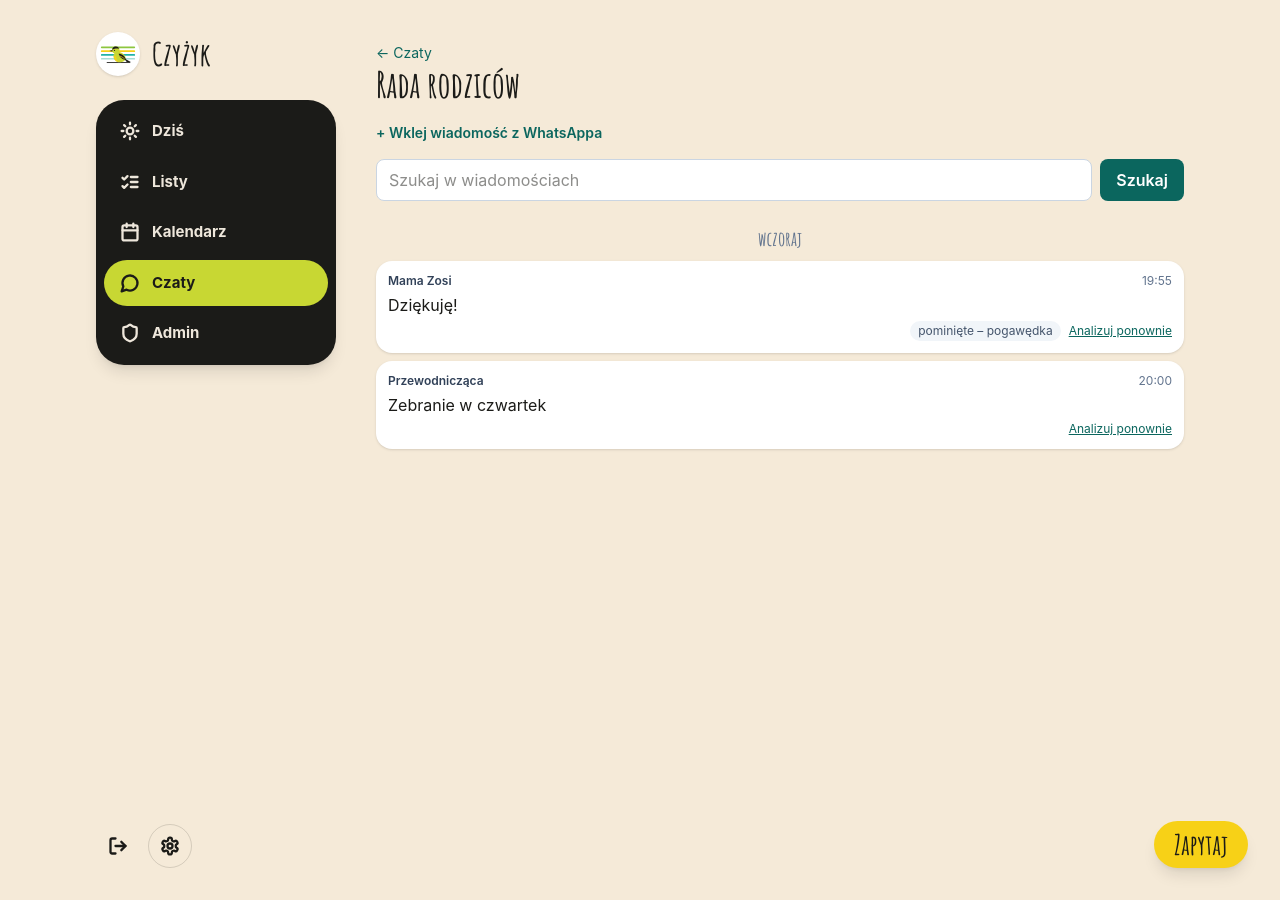
Test: Czaty › admin wysyła wiadomość do ponownej analizy; zwykły członek rodziny nie widzi przycisku
The width and height of the screenshot is (1280, 900).
Click the button "Analizuj ponownie" below "20:00".
click(1120, 429)  # box x1=1069 y1=421 x2=1172 y2=437
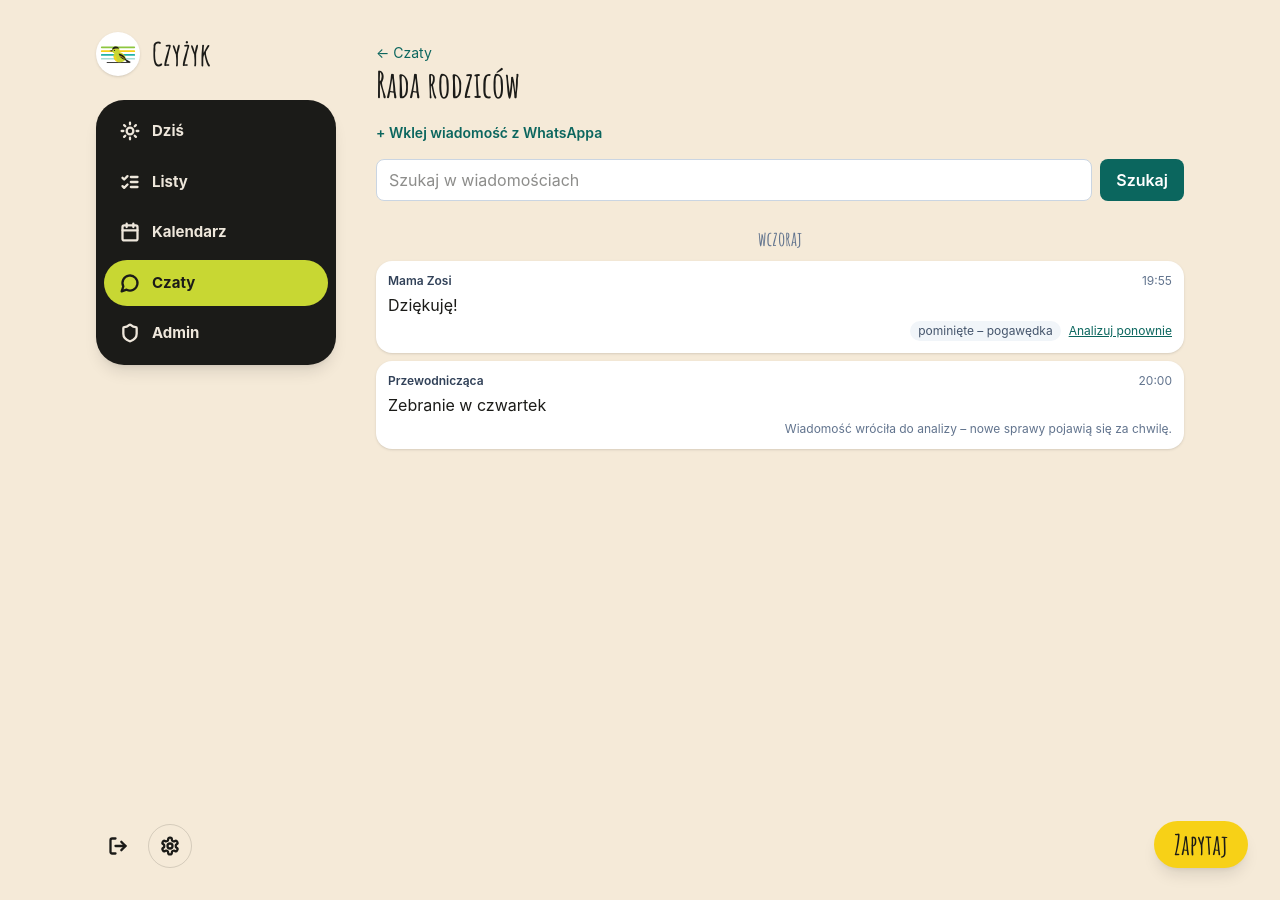
Result: the message shows "Wiadomość wróciła do analizy" at x1=785 y1=421 x2=1172 y2=436
